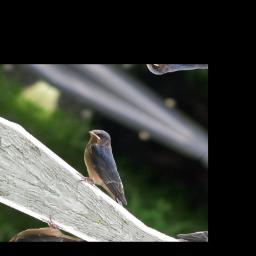Swallow: (57, 124, 160, 211)
